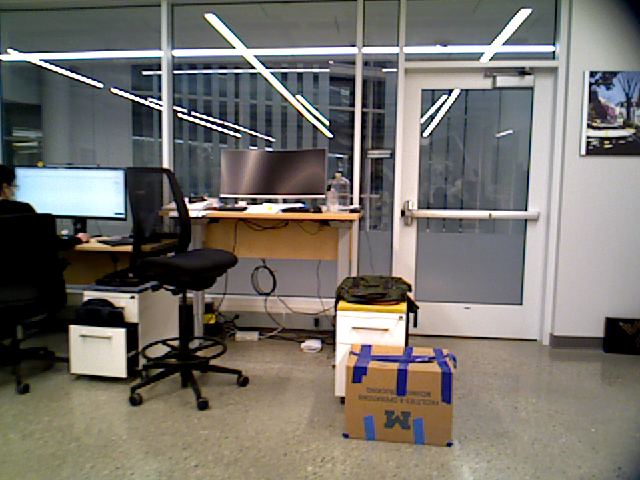painting3: (583, 73, 640, 156)
